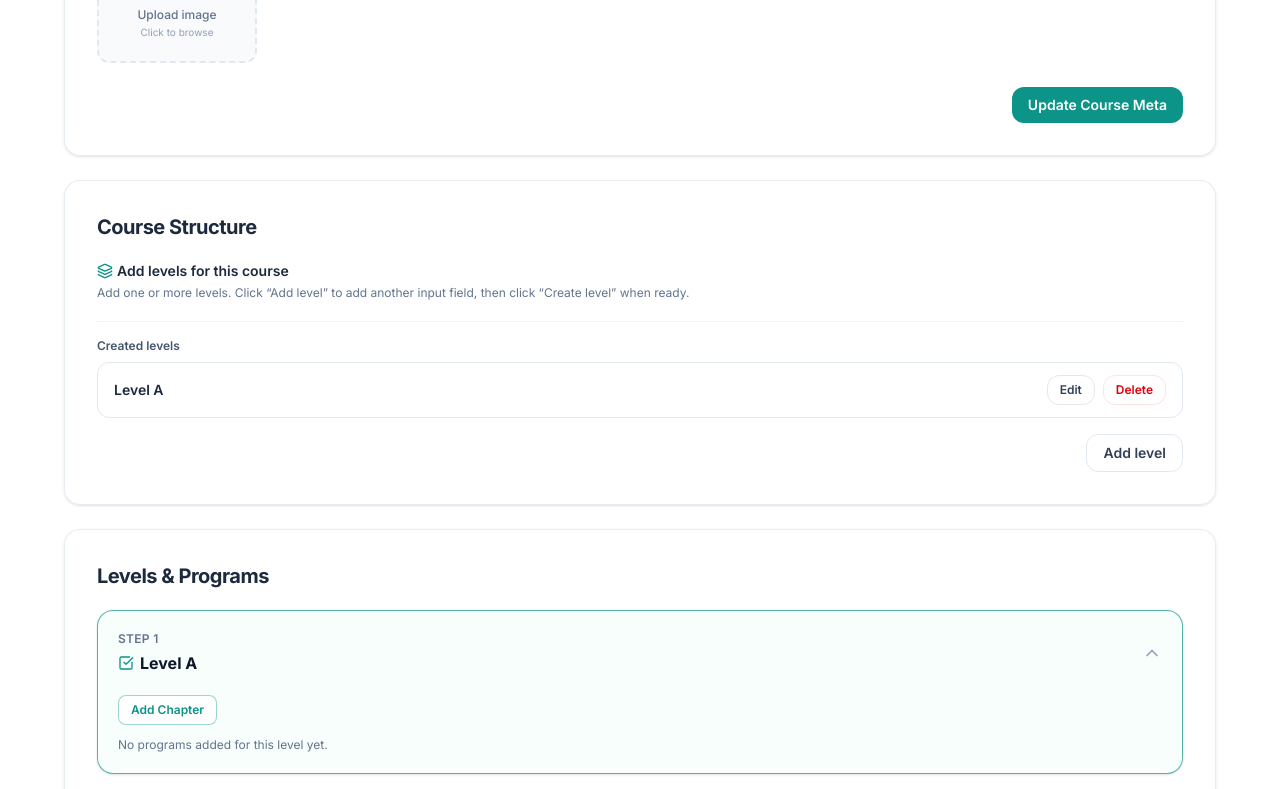
Test: InstituteAdminCourseBuilder – confirm modal › renders confirm modal with OK and Cancel buttons
(page scrolled)
What coordinates should you click on to do the following:
click the button "Delete"
I would click on:
 (1134, 390)
Its box is [1103,374,1166,404].
(page scrolled)
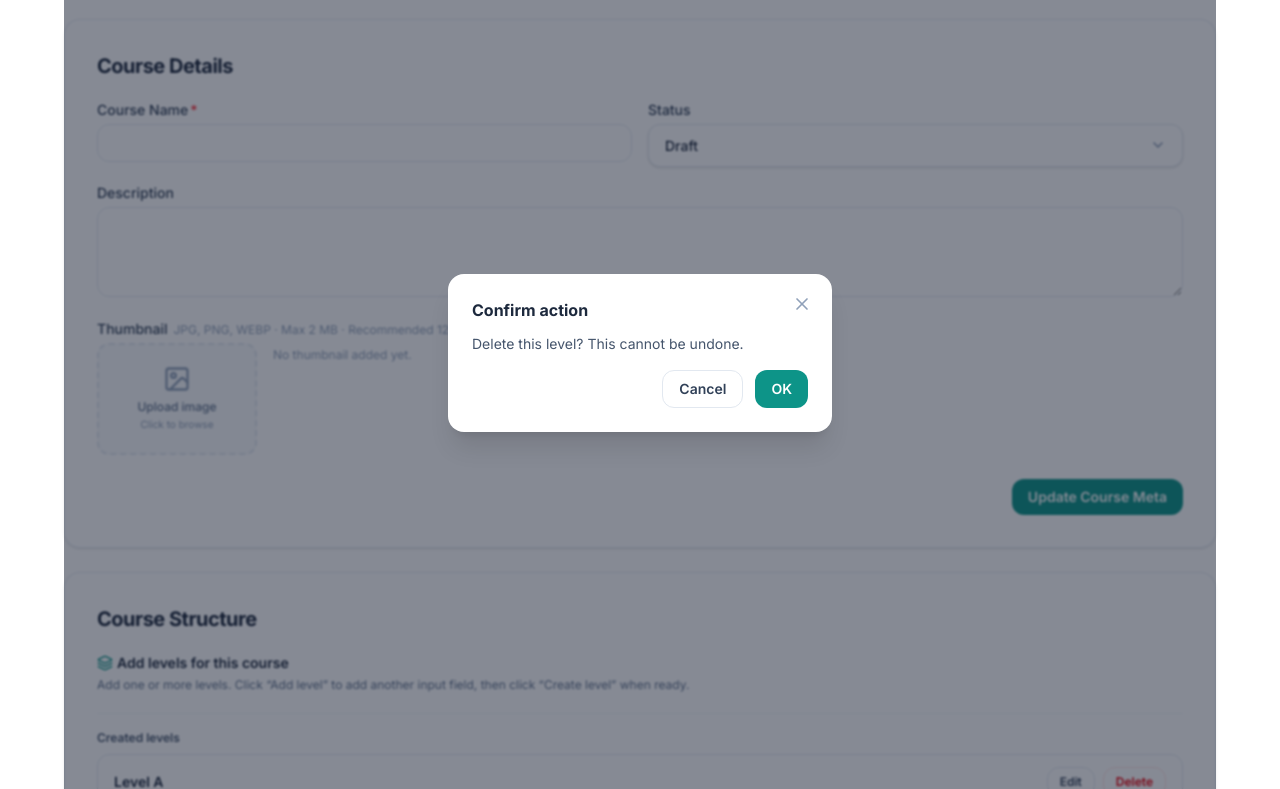
Expected: the heading "Confirm action" is shown, [472,300,588,320]
Expected: the button "OK" is shown, [755,370,808,408]
Expected: the button "Cancel" is shown, [662,370,743,408]
